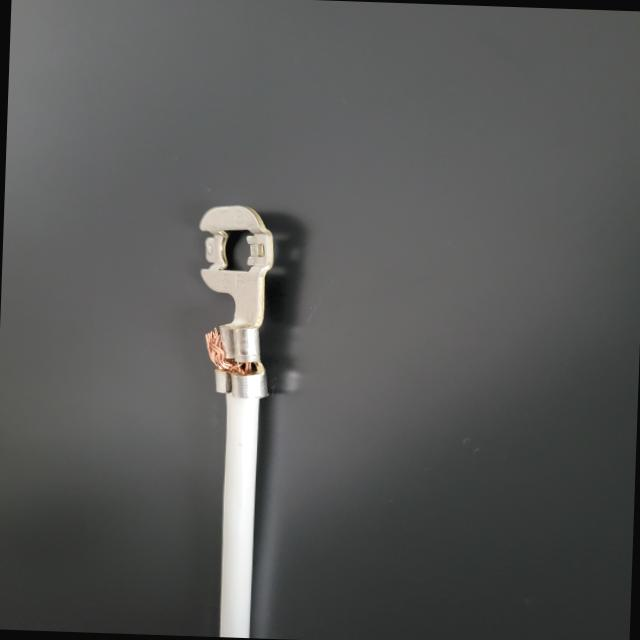defect: (150, 287, 332, 437)
